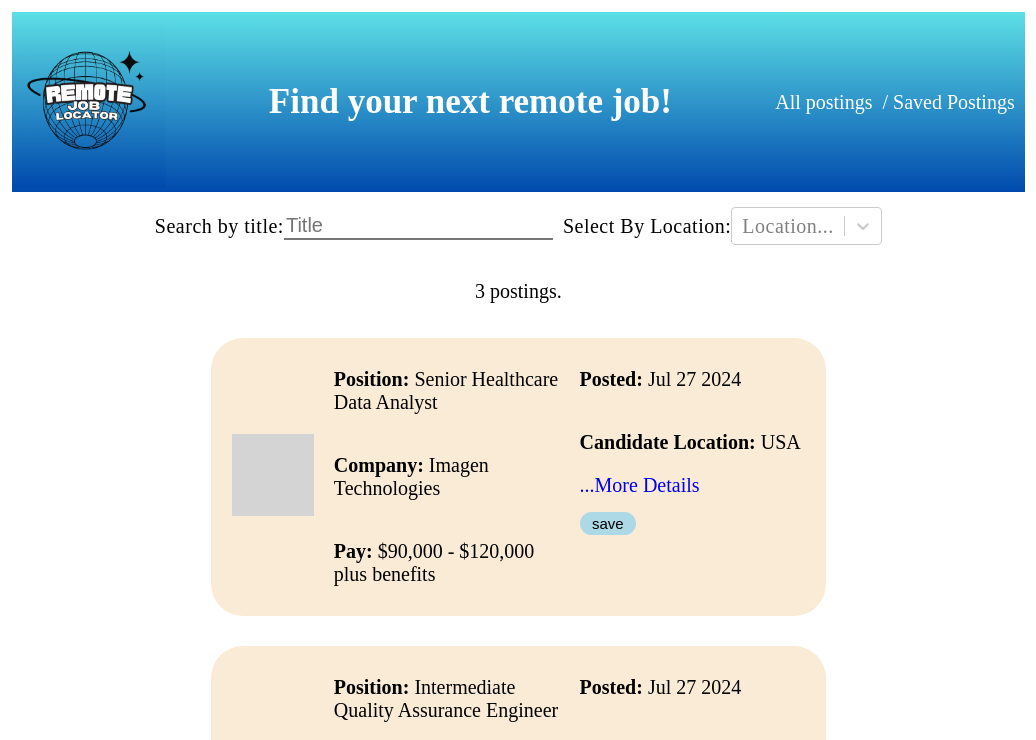
Saved Postings Tests › Saves a posting and views it in the saved postings page
The width and height of the screenshot is (1036, 740).
Step 1. Click the button with class "saveForLater" → (608,524), box [580,512,636,535]
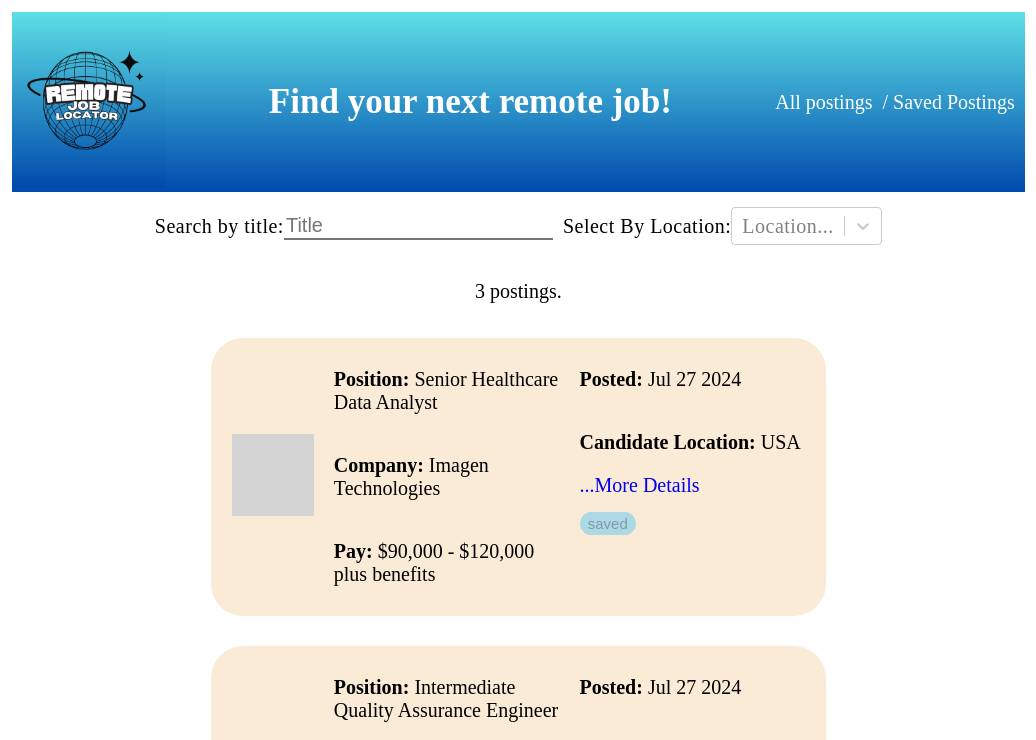
Step 2. Open "http://localhost:3000/SavedPostings"
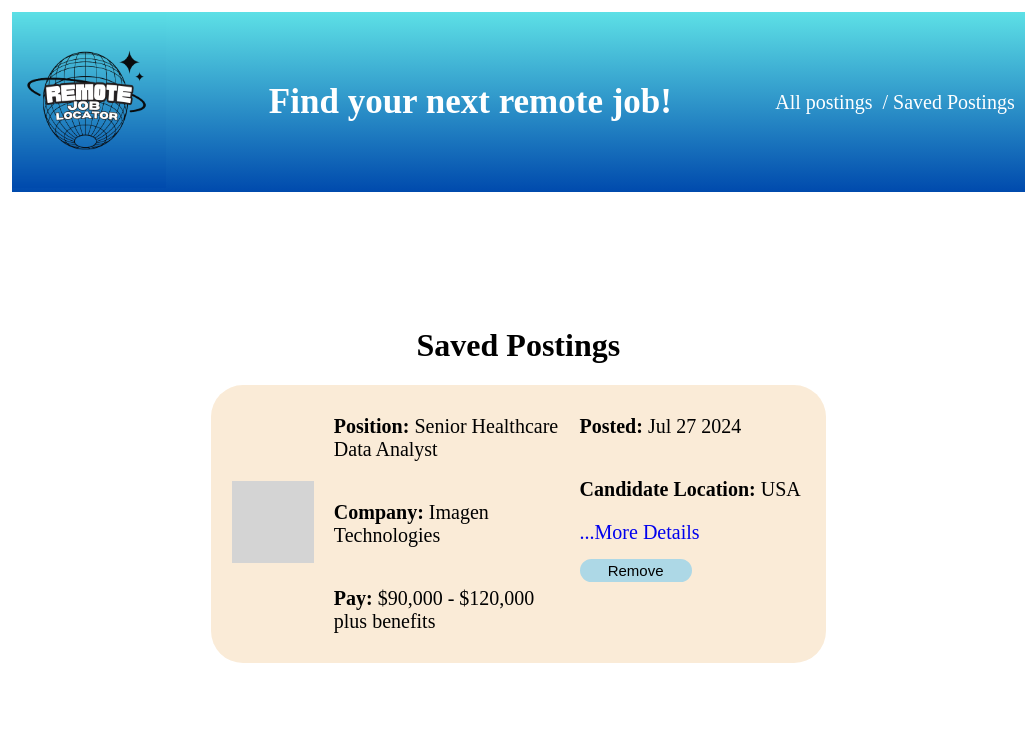
Expected: the element with class "savedWrapper" shows "Senior Healthcare Data Analyst", [334,415,558,460]
Expected: the element with class "savedWrapper" shows "$90,000 - $120,000 plus benefits", [334,587,535,632]
